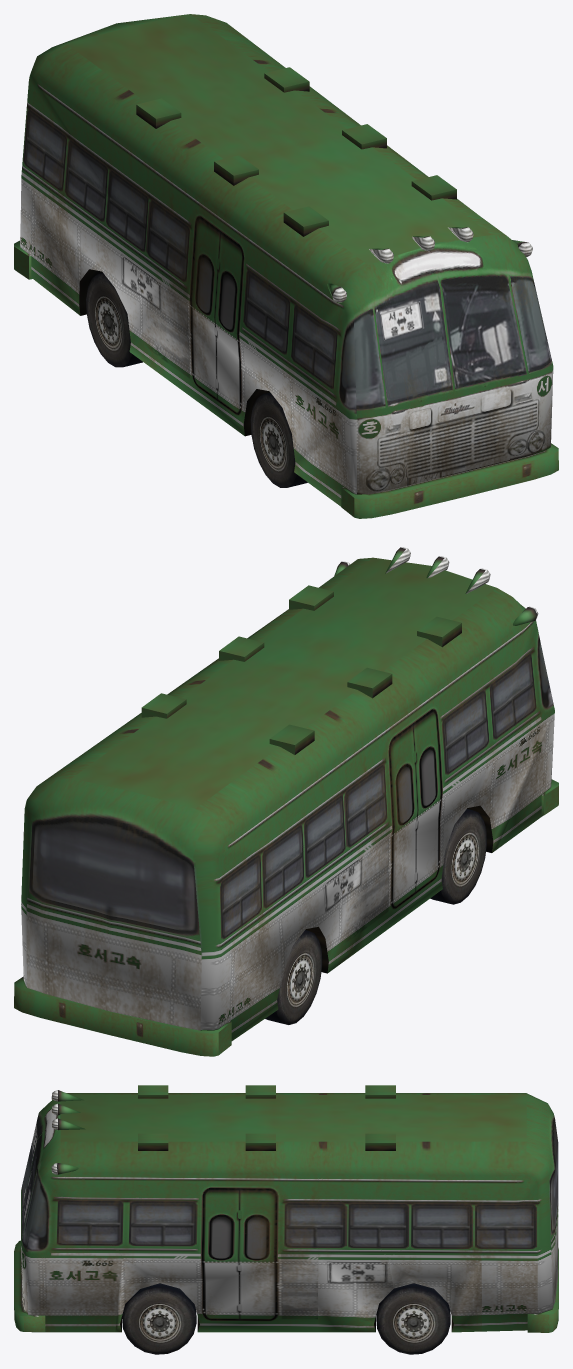
File: green_bus.fbx
The picture shows the model from 3 angles, top to bottom: view 1: azimuth 30°, elevation 25°; view 2: azimuth 150°, elevation 25°; view 3: azimuth 270°, elevation 25°; orthographic projection. The views are drawn at different scales.
Visible parts, largest first — view 1: Object001; view 2: Object001; view 3: Object001.
Part boxes in pixels (box(x1,y1,x2,y2)): Object001: box(14, 14, 558, 518); Object001: box(14, 547, 558, 1056); Object001: box(14, 1085, 558, 1354).
Size of the model in its own units: 2.79 by 3.57 by 8.31.
3 materials, 3 textured.
